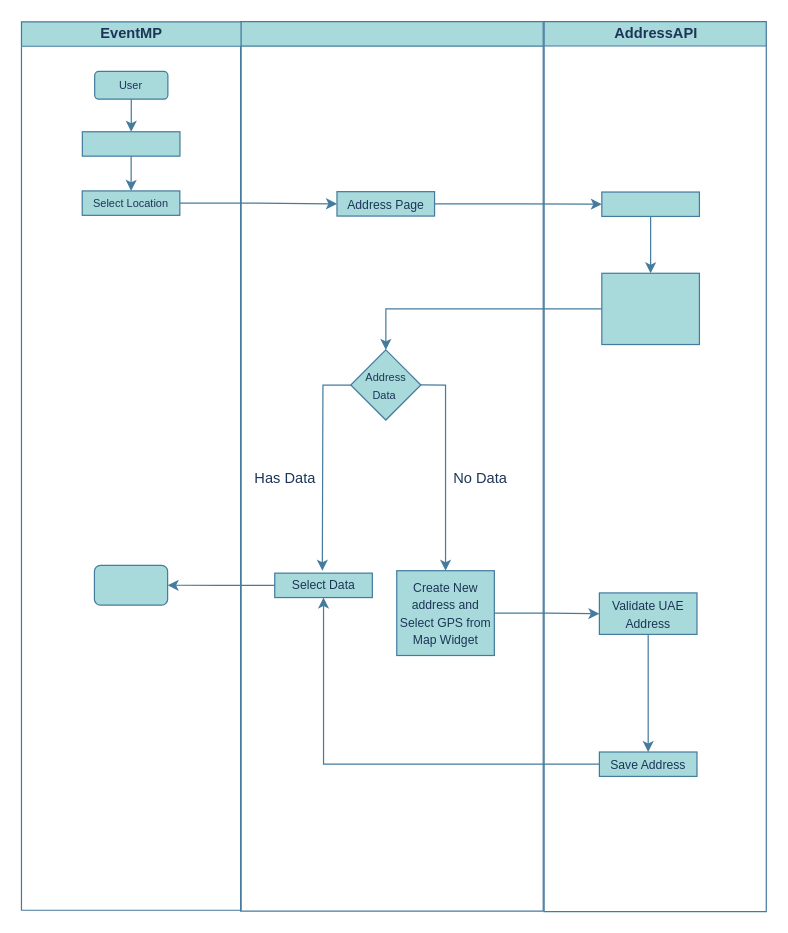
The diagram is 788 pixels wide and 933 high, and some of its shapes have lost their labels. Here are the shapes that lost their labels. From the top down, the box of each, then its label:
(81, 131, 180, 156): Create Event
(601, 191, 699, 216): Get Address
(601, 272, 699, 345): Validate User and Return Address
(239, 20, 543, 911): AddressMP
(93, 564, 168, 605): Return Address Info
